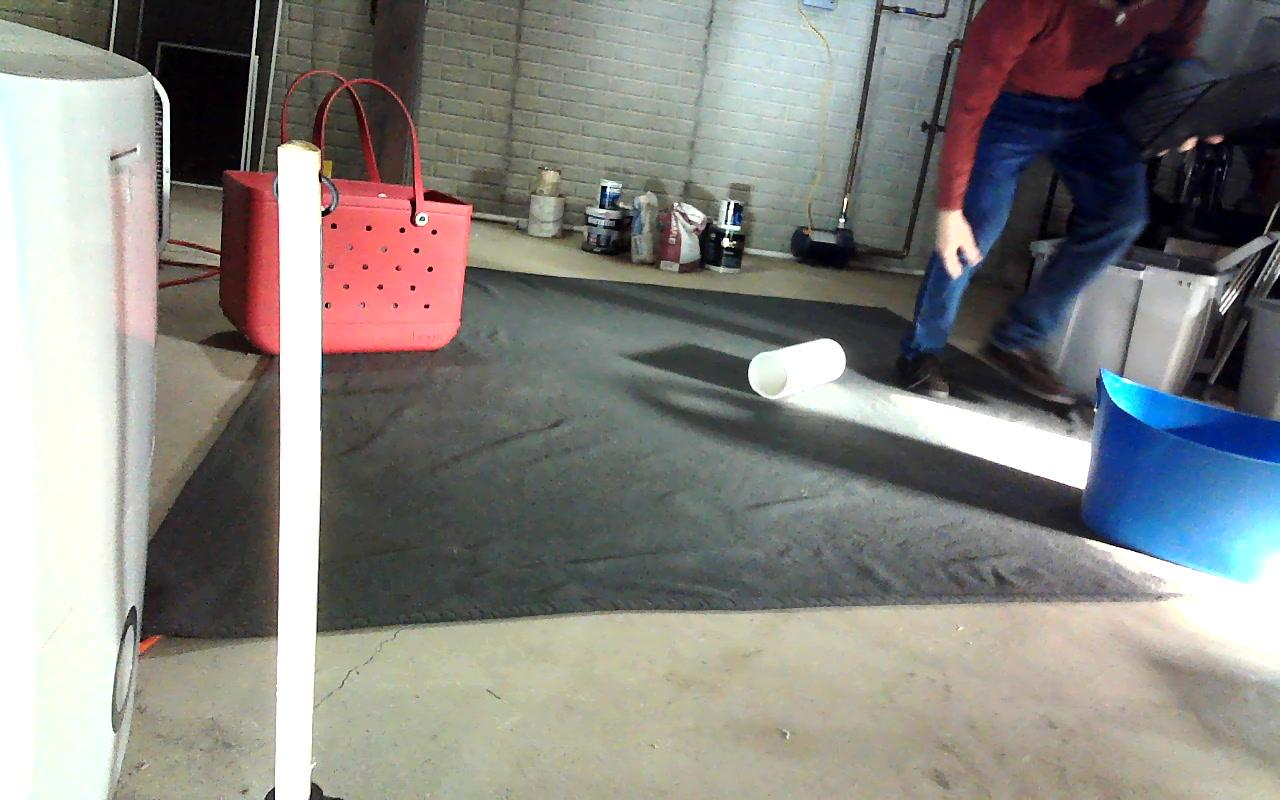coral: (749, 340, 845, 398)
